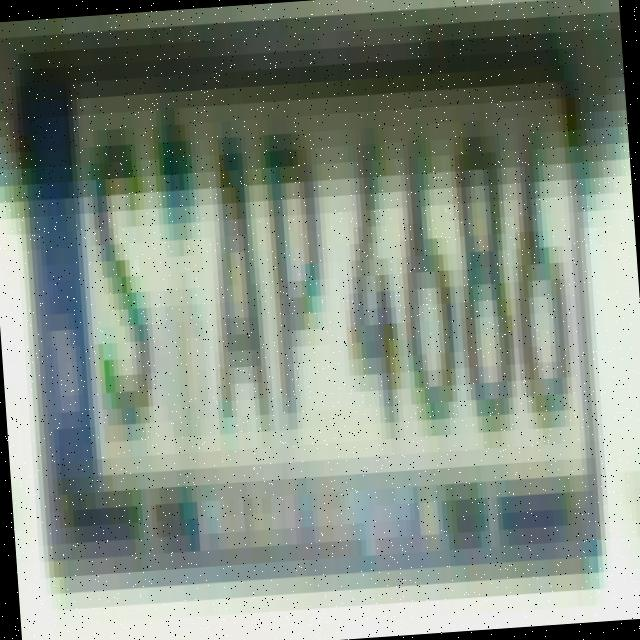Autre: (13, 38, 598, 562)
